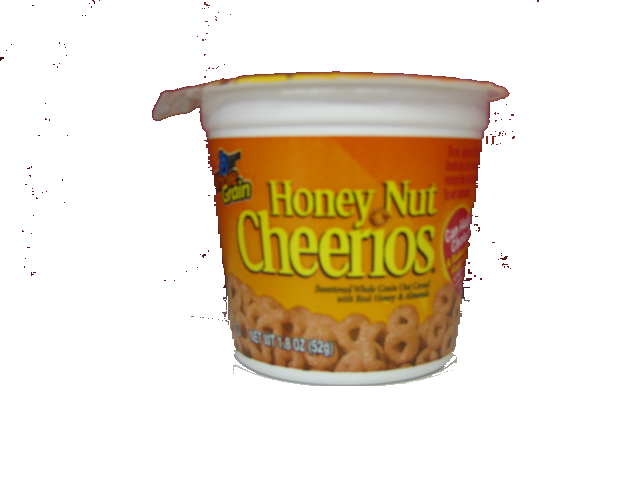grozi_95: (0, 57, 508, 385)
